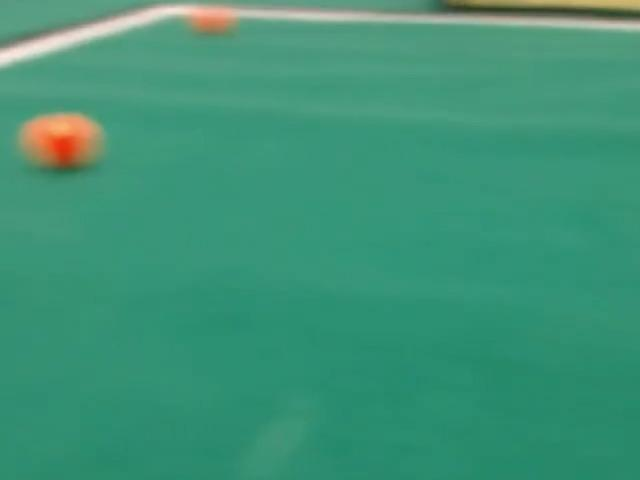Ball: (19, 113, 105, 168)
